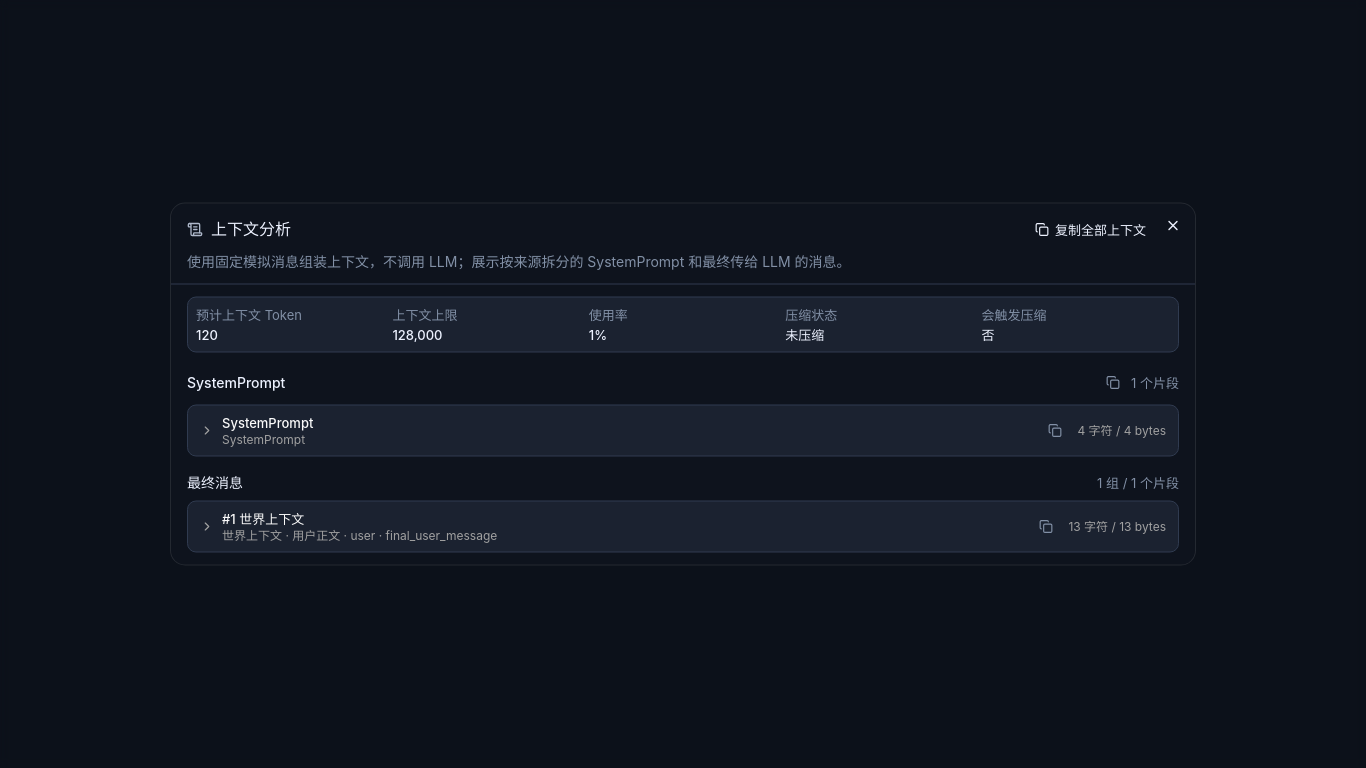
Test: ContextAnalysisDialog › renders a single-part final message group without a duplicate nested card
The width and height of the screenshot is (1366, 768).
Check: the text "#1 世界上下文" is shown once, box [222,510,304,526]
Check: the text "青云山: 节点名称=青云山" is not shown
Click the button "#1 世界上下文 世界上下文 · 用户正文 · user · final_user_message": (263, 518) [200,510,1024,544]
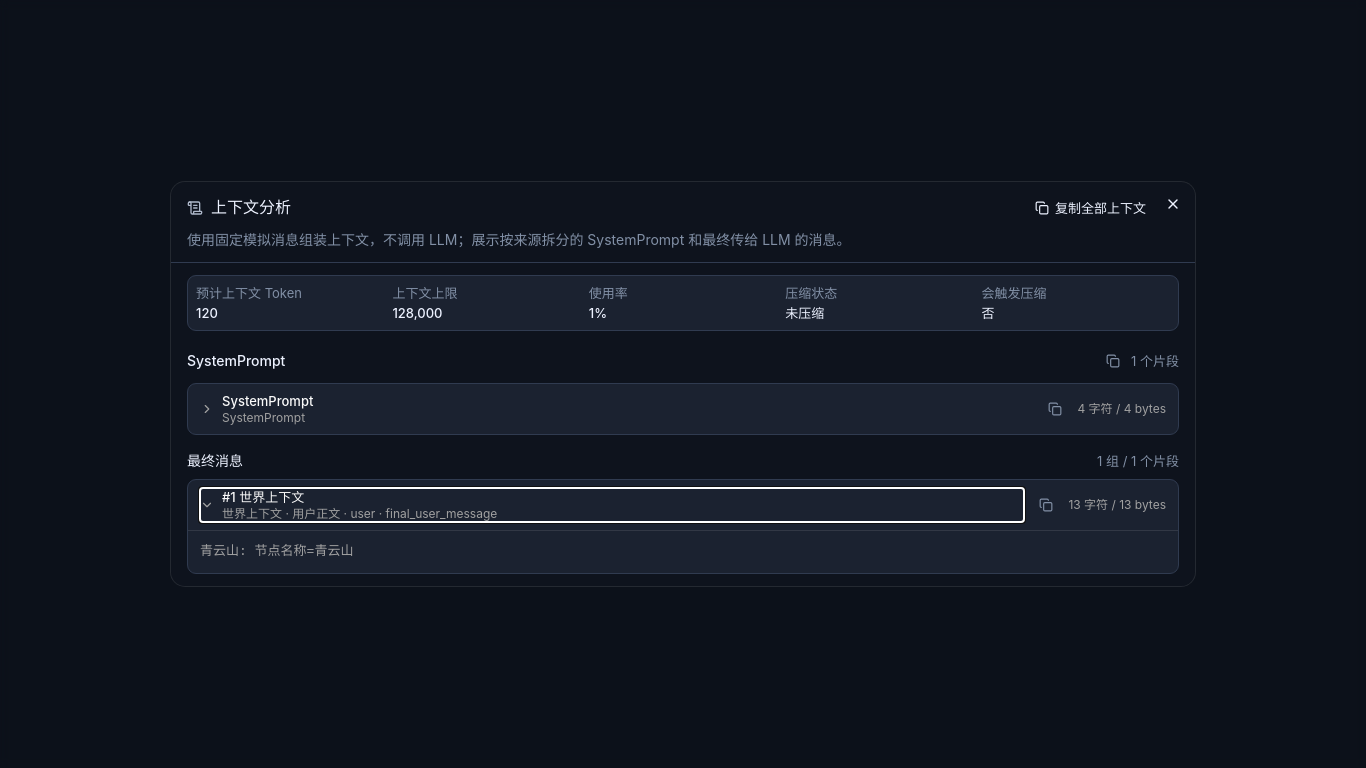
Check: the text "青云山: 节点名称=青云山" is shown, box [200,544,353,559]
